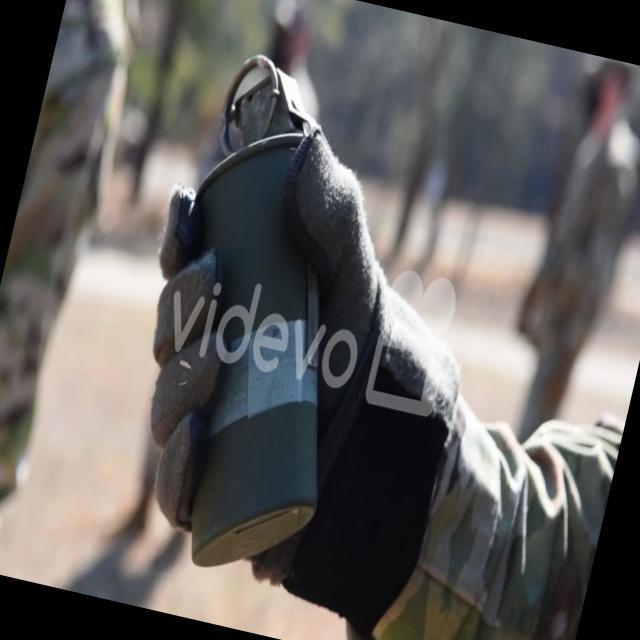grenade: (96, 47, 419, 598)
